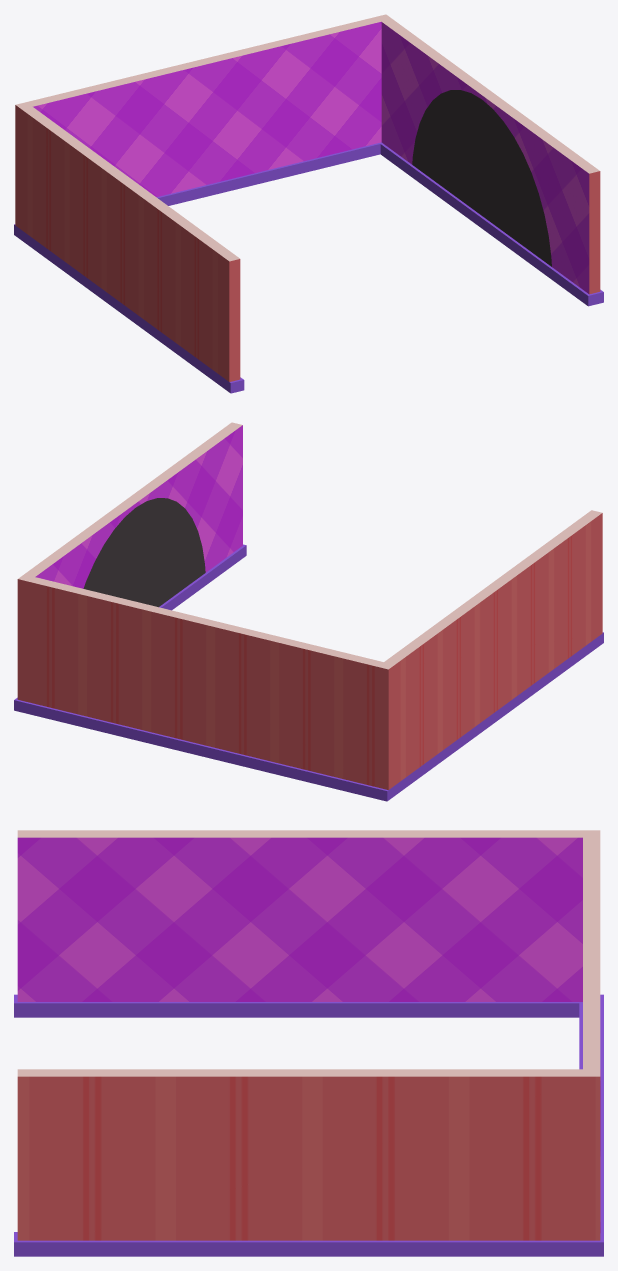
The model's file is Eventrm02_Wall_geo.fbx.
The picture shows the model from 3 angles, top to bottom: view 1: azimuth 30°, elevation 25°; view 2: azimuth 150°, elevation 25°; view 3: azimuth 270°, elevation 25°; orthographic projection. The views are drawn at different scales.
Parts seen in each view (by area): view 1: Eventrm02_Wall_geo; view 2: Eventrm02_Wall_geo; view 3: Eventrm02_Wall_geo.
Boxes of the visible parts, left/top/right/bottom form: Eventrm02_Wall_geo: left=14, top=14, right=603, bottom=393; Eventrm02_Wall_geo: left=14, top=422, right=603, bottom=801; Eventrm02_Wall_geo: left=14, top=830, right=603, bottom=1256.
Size of the model in its own units: 6.07 by 6.1 by 2.04.
